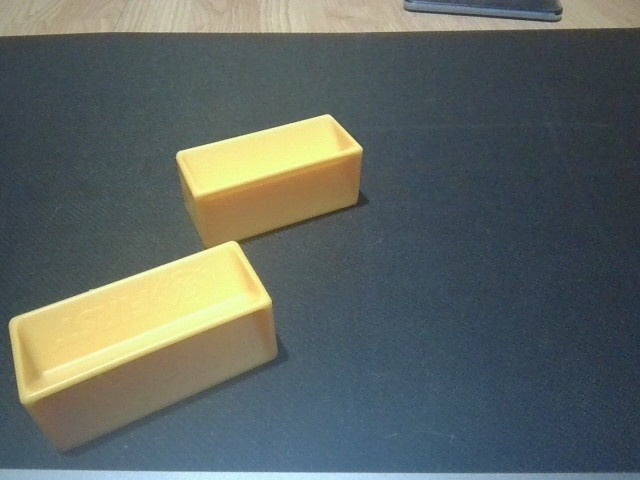YellowSample: (5, 239, 282, 455), (172, 114, 364, 248)
